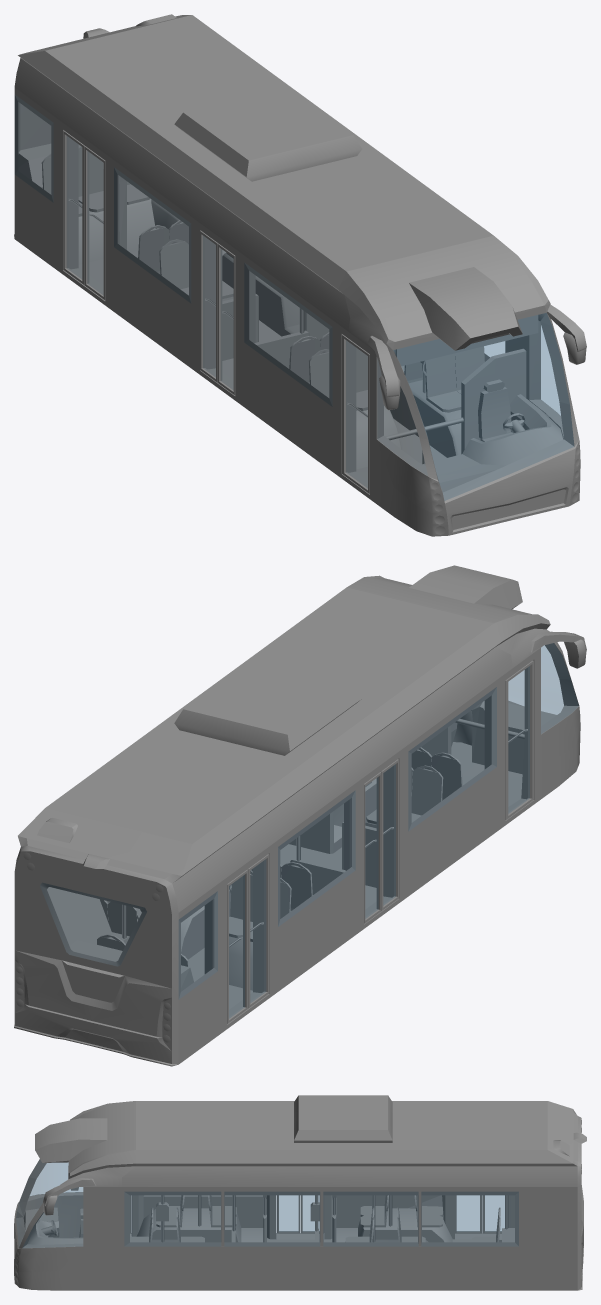
The model's file is Bus_10.FBX.
3 views of the same model, one above another, from view 1: azimuth 30°, elevation 25°; view 2: azimuth 150°, elevation 25°; view 3: azimuth 270°, elevation 25° (orthographic). The views are drawn at different scales.
Visible parts, largest first — view 1: Bus_10_Body, Bus_10_Roof_M, Bus_10_Roof_B, Bus_10_Roof_F, Bus_10_Window_F, Bus_10_AirConditioner, Bus_10_Window_R_2, Bus_10_Window_R_3, Bus_10_Window_R_4, Bus_10_DoorWindow_F, Bus_10_Window_R_1, Bus_10_DoorWindow_B_R (+17 smaller); view 2: Bus_10_Body, Bus_10_Roof_B, Bus_10_Roof_M, Bus_10_AirConditioner, Bus_10_Roof_F, Bus_10_Window_R_2, Bus_10_Window_R_3, Bus_10_Window_B, Bus_10_Window_R_4, Bus_10_DoorWindow_F, Bus_10_Window_R_1, Bus_10_DoorWindow_B_L (+14 smaller); view 3: Bus_10_Body, Bus_10_Roof_M, Bus_10_Roof_B, Bus_10_Roof_F, Bus_10_Window_L_5, Bus_10_Window_L_2, Bus_10_Window_L_3, Bus_10_Window_L_4, Bus_10_AirConditioner, Bus_10_Window_L_1, Bus_10_Window_F, Bus_10_DoorWindow_B_R (+8 smaller).
Part boxes in pixels (box(x1,y1,x2,y2)): Bus_10_Body: box(14, 28, 580, 536); Bus_10_Roof_M: box(160, 122, 493, 333); Bus_10_Roof_B: box(14, 14, 338, 226); Bus_10_Roof_F: box(338, 235, 586, 439); Bus_10_Window_F: box(394, 313, 573, 500); Bus_10_AirConditioner: box(174, 87, 361, 181); Bus_10_Window_R_2: box(245, 263, 331, 405); Bus_10_Window_R_3: box(114, 168, 190, 302); Bus_10_Window_R_4: box(15, 95, 52, 201); Bus_10_DoorWindow_F: box(346, 341, 367, 487); Bus_10_Window_R_1: box(378, 362, 427, 475); Bus_10_DoorWindow_B_R: box(88, 152, 102, 294); Bus_10_Body: box(14, 679, 580, 1066); Bus_10_Roof_B: box(18, 701, 355, 938); Bus_10_Roof_M: box(192, 587, 512, 870); Bus_10_AirConditioner: box(174, 661, 361, 755); Bus_10_Roof_F: box(347, 565, 586, 739); Bus_10_Window_R_2: box(409, 687, 496, 830); Bus_10_Window_R_3: box(278, 791, 354, 926); Bus_10_Window_B: box(40, 883, 146, 965); Bus_10_Window_R_4: box(179, 892, 217, 998); Bus_10_DoorWindow_F: box(509, 666, 529, 812); Bus_10_Window_R_1: box(541, 643, 578, 733); Bus_10_DoorWindow_B_L: box(229, 875, 244, 1017); Bus_10_Body: box(14, 1109, 586, 1290); Bus_10_Roof_M: box(122, 1101, 379, 1246); Bus_10_Roof_B: box(347, 1101, 577, 1246); Bus_10_Roof_F: box(29, 1101, 135, 1246); Bus_10_Window_L_5: box(422, 1192, 518, 1245); Bus_10_Window_L_2: box(125, 1192, 220, 1245); Bus_10_Window_L_3: box(225, 1192, 319, 1245); Bus_10_Window_L_4: box(324, 1192, 417, 1245); Bus_10_AirConditioner: box(294, 1095, 392, 1142); Bus_10_Window_L_1: box(23, 1187, 82, 1247); Bus_10_Window_F: box(16, 1160, 67, 1245); Bus_10_DoorWindow_B_R: box(457, 1196, 479, 1230).
Bounding box in the file's own units: 340 × 355 × 1223.
